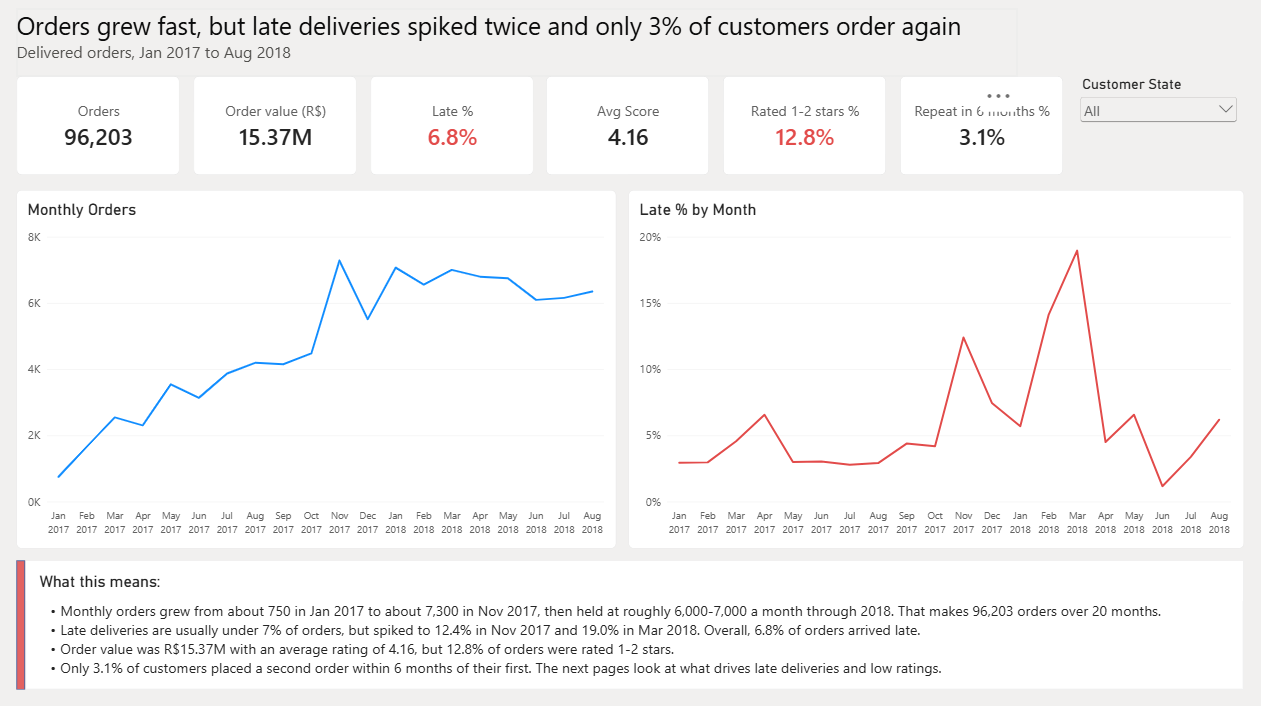

This screenshot's page, from the dashboard's own definition file:
{"tool":"powerbi","page":{"name":"Executive Summary","canvas":[1920,1080],"ordinal":0},"visuals":[{"type":"cardVisual","fields":{"Data":["bi_orders.Order Value"]},"box":[302.2,117.4,247,150],"z":0},{"type":"cardVisual","fields":{"Data":["bi_orders.Avg Score"]},"box":[837.1,117.4,247,150],"z":1000},{"type":"cardVisual","fields":{"Data":["bi_orders.Low Score %"]},"box":[1104.6,117.4,247,150],"z":2000},{"type":"cardVisual","title":"Repeat purchase within 6 months %","fields":{"Data":["bi_retention.Repeat 180d %"]},"box":[1372,117.4,247.5,150],"z":3000},{"type":"cardVisual","fields":{"Data":["bi_orders.Late %"]},"box":[569.7,117.4,247,150],"z":4000},{"type":"lineChart","title":"Monthly Orders","fields":{"Category":["bi_orders.Month Label"],"Y":["bi_orders.Orders"]},"box":[34.8,291.3,908.7,543.5],"z":5000},{"type":"lineChart","title":"Late % by Month","fields":{"Category":["bi_orders.Month Label"],"Y":["bi_orders.Late %"]},"box":[960.9,291.3,932.6,543.5],"z":6000},{"type":"slicer","fields":{"Values":["bi_orders.customer_state"]},"box":[1640,117.4,247,150],"z":7000},{"type":"cardVisual","fields":{"Data":["bi_orders.Orders"]},"box":[34.8,117.4,247,150],"z":8000},{"type":"textbox","box":[35,15,1515,102.5],"z":9000},{"type":"textbox","title":"What this means:","box":[47.8,852.2,1845.7,195.7],"z":10000},{"type":"shape","box":[34.8,852.2,13,195.7],"z":11000}]}

Visuals, with their boxes in screenshot pixels (x1, y1, x2, y2), scaled from the page's 1920x1080 canvas onto the 1261x706 screenshot:
cardVisual - bi_orders.Order Value: pyautogui.locateOnScreen(198, 77, 361, 175)
cardVisual - bi_orders.Avg Score: pyautogui.locateOnScreen(550, 77, 712, 175)
cardVisual - bi_orders.Low Score %: pyautogui.locateOnScreen(725, 77, 888, 175)
"Repeat purchase within 6 months %" cardVisual: pyautogui.locateOnScreen(901, 77, 1064, 175)
cardVisual - bi_orders.Late %: pyautogui.locateOnScreen(374, 77, 536, 175)
"Monthly Orders" lineChart: pyautogui.locateOnScreen(23, 190, 620, 546)
"Late % by Month" lineChart: pyautogui.locateOnScreen(631, 190, 1244, 546)
slicer - bi_orders.customer_state: pyautogui.locateOnScreen(1077, 77, 1239, 175)
cardVisual - bi_orders.Orders: pyautogui.locateOnScreen(23, 77, 185, 175)
textbox: pyautogui.locateOnScreen(23, 10, 1018, 77)
"What this means:" textbox: pyautogui.locateOnScreen(31, 557, 1244, 685)
shape: pyautogui.locateOnScreen(23, 557, 31, 685)
